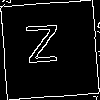Z: (24, 24, 61, 73)
